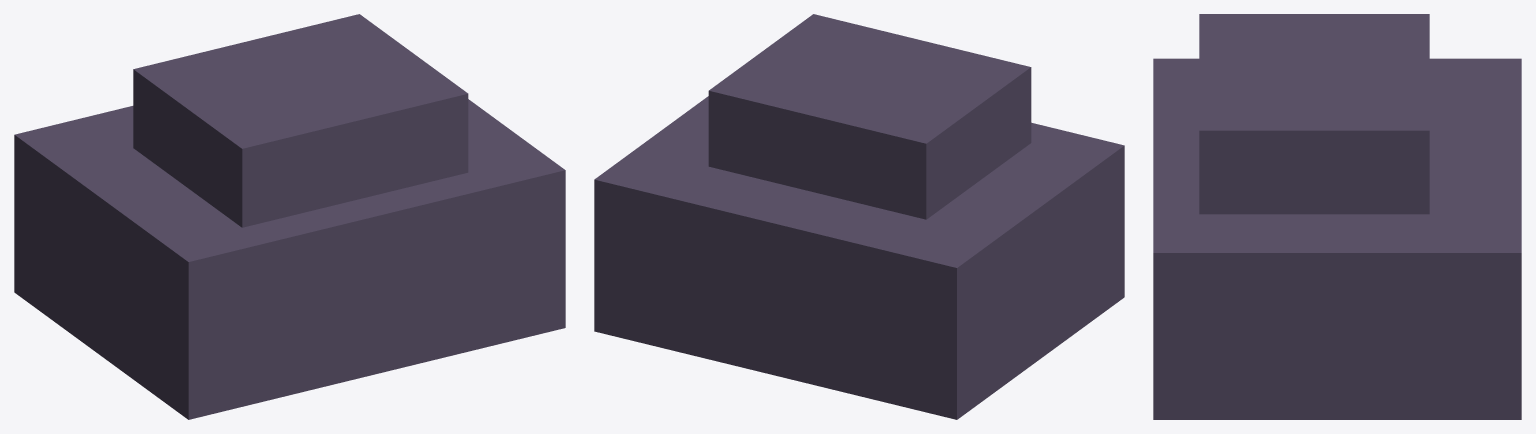
Rendered from chapin_roca_lejos.obj.
The picture shows the model from 3 angles, left to right: view 1: azimuth 30°, elevation 25°; view 2: azimuth 150°, elevation 25°; view 3: azimuth 270°, elevation 25°; orthographic projection. The views are drawn at different scales.
Visible parts, largest first — view 1: basalto; view 2: basalto; view 3: basalto.
Boxes of the visible parts, x1,y1,x2,y2 form: basalto: [14, 14, 565, 419]; basalto: [594, 14, 1124, 419]; basalto: [1153, 14, 1521, 419].
Bounding box in the file's own units: 0.7142 × 0.4286 × 0.5714.
